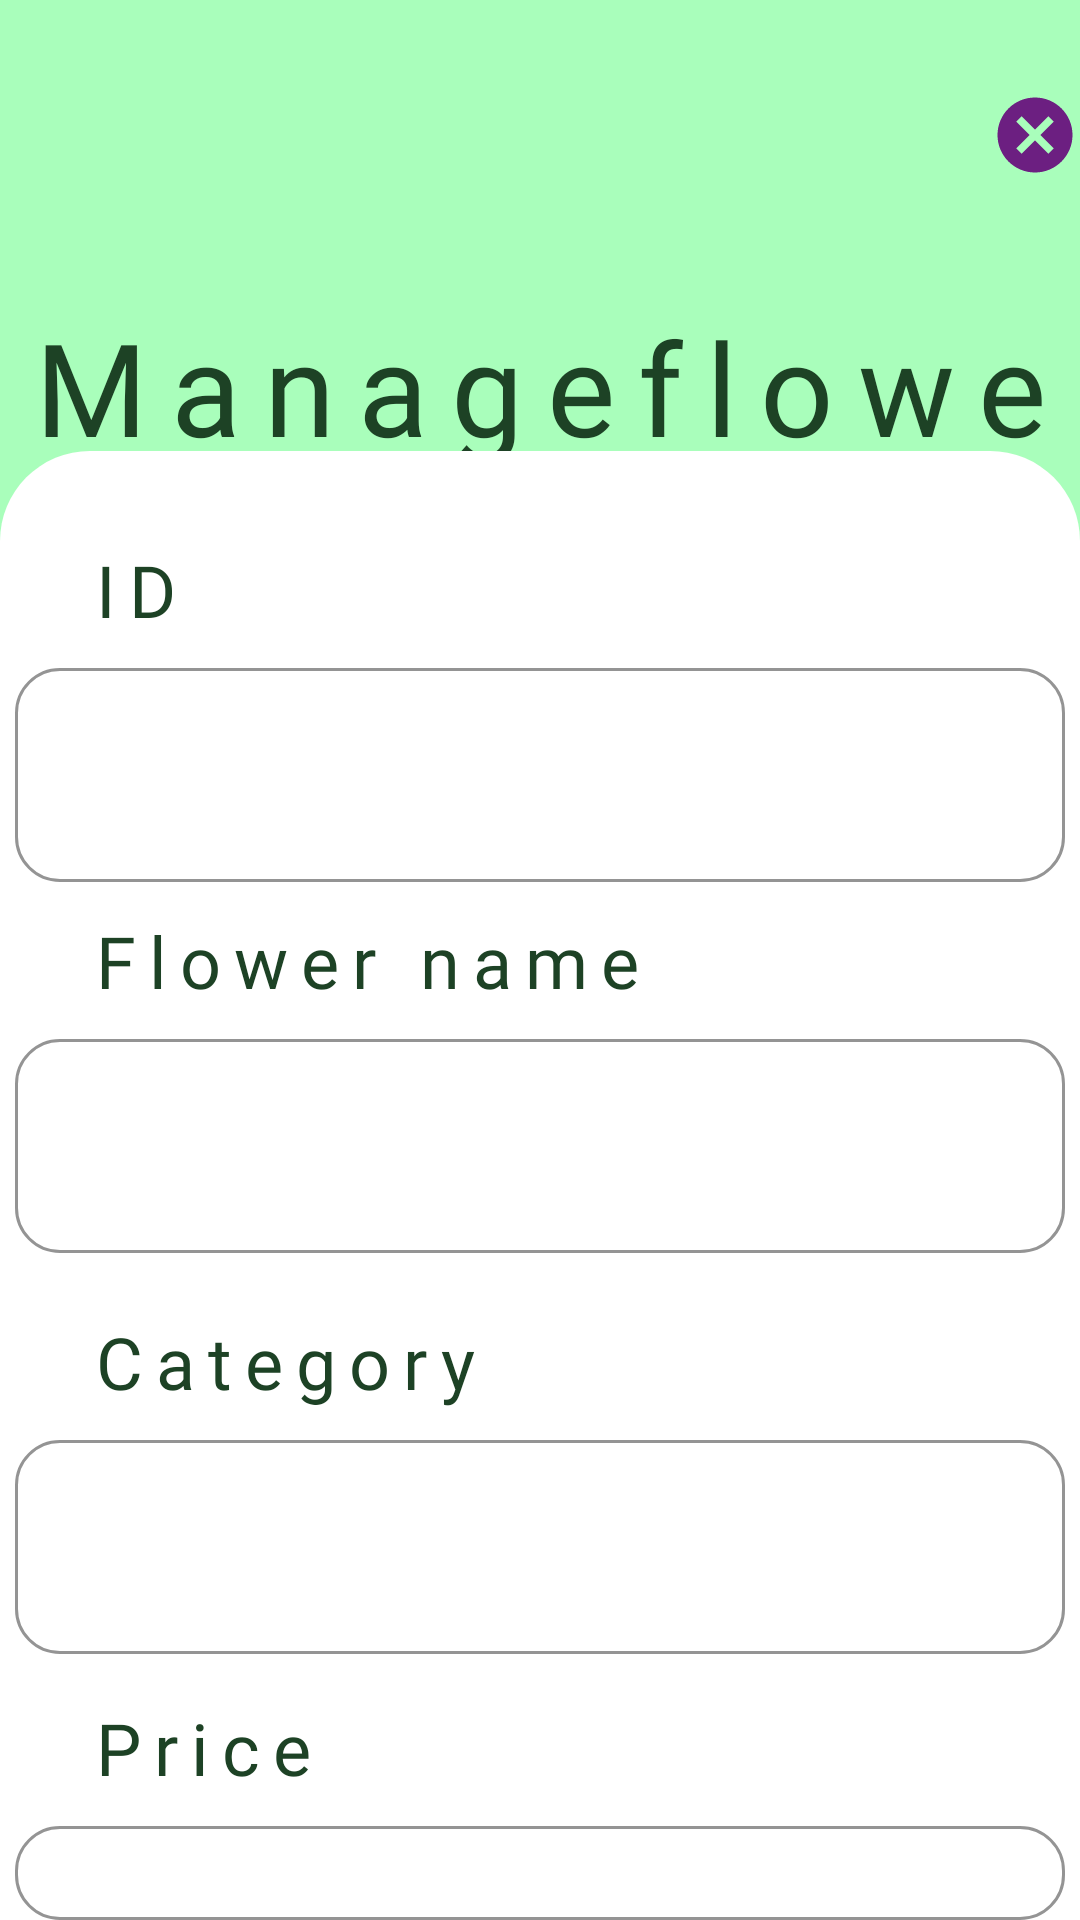

Screen size 1080×1920. Icon name, then its center in pixels as (x=x, y=y):
cancel: (x=1035, y=135)
